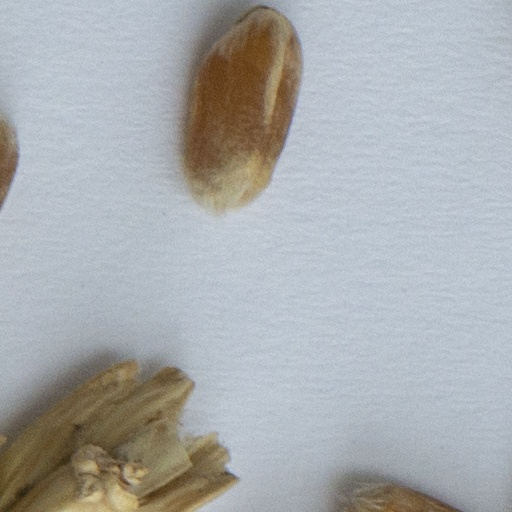Peel-poly: (0, 359, 235, 511)
